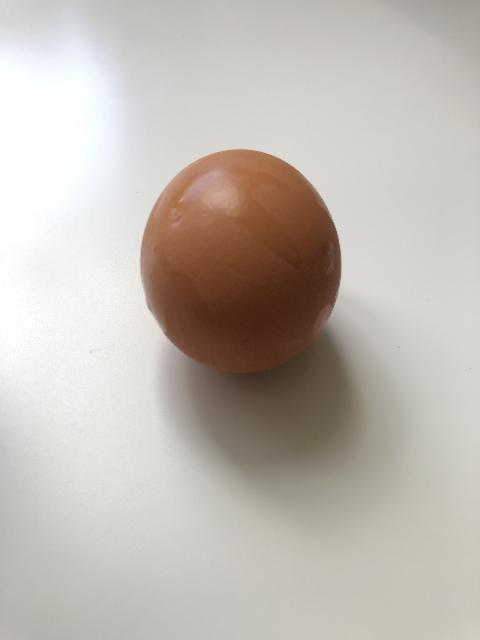Sano: (139, 147, 342, 375)
